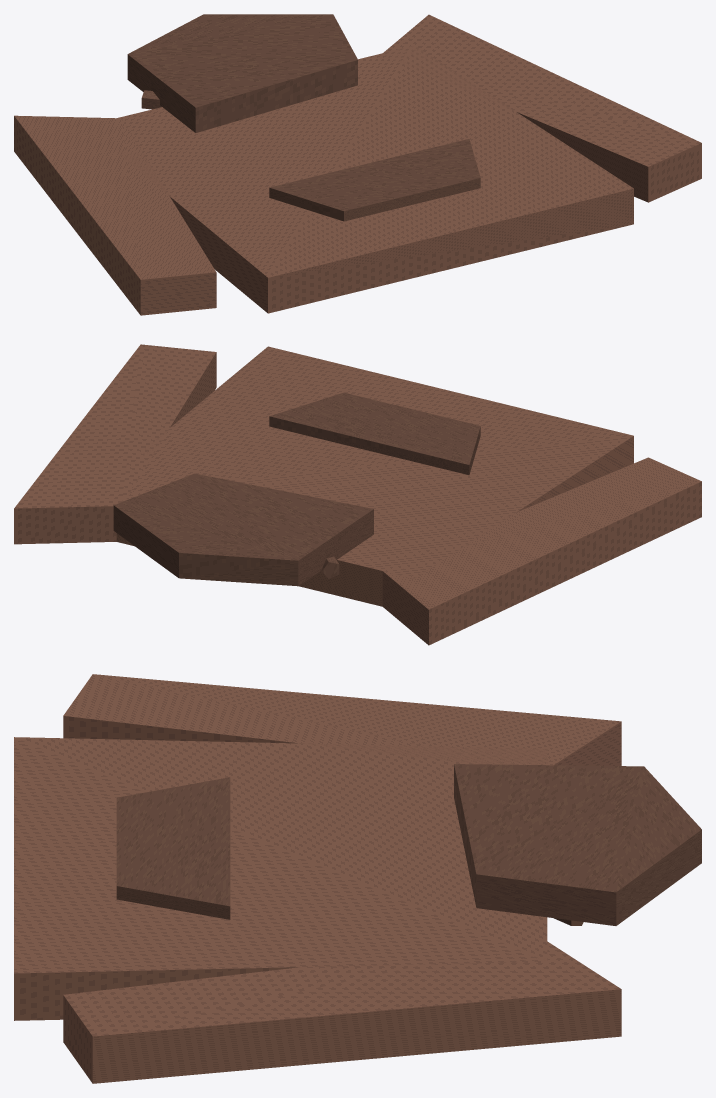
Rendered from wool_hoodie.glb.
3 views of the same model, one above another, from view 1: azimuth 30°, elevation 25°; view 2: azimuth 150°, elevation 25°; view 3: azimuth 270°, elevation 25° (orthographic). The views are drawn at different scales.
Parts seen in each view (by area): view 1: block_shirt torso, block_sleeve or strap -1, block_folded hood, block_sleeve or strap 1, block_kangaroo pocket; view 2: block_shirt torso, block_sleeve or strap -1, block_folded hood, block_sleeve or strap 1, block_kangaroo pocket; view 3: block_shirt torso, block_sleeve or strap 1, block_folded hood, block_sleeve or strap -1, block_kangaroo pocket.
Part boxes in pixels (<box>): block_shirt torso: <box>117,45,633,313</box>; block_sleeve or strap -1: <box>14,115,216,315</box>; block_folded hood: <box>127,14,357,132</box>; block_sleeve or strap 1: <box>381,14,701,202</box>; block_kangaroo pocket: <box>269,139,480,221</box>; block_shirt torso: <box>116,346,633,606</box>; block_sleeve or strap -1: <box>382,457,701,645</box>; block_folded hood: <box>113,473,373,586</box>; block_sleeve or strap 1: <box>14,344,216,544</box>; block_kangaroo pocket: <box>269,392,480,474</box>; block_shirt torso: <box>14,737,547,1020</box>; block_sleeve or strap 1: <box>63,941,621,1083</box>; block_folded hood: <box>454,764,701,925</box>; block_sleeve or strap -1: <box>63,674,621,765</box>; block_kangaroo pocket: <box>116,777,230,919</box>.
Bounding box in the file's own units: 0.46 × 0.048 × 0.369.
Materials: 1 (1 with a texture image).
